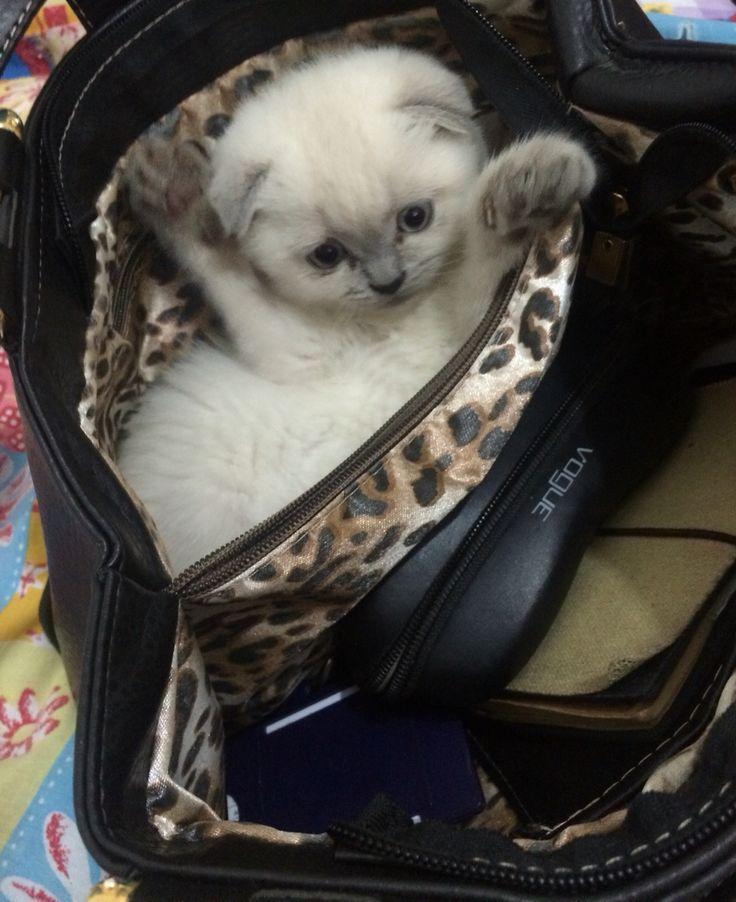kedo: (212, 55, 598, 315)
